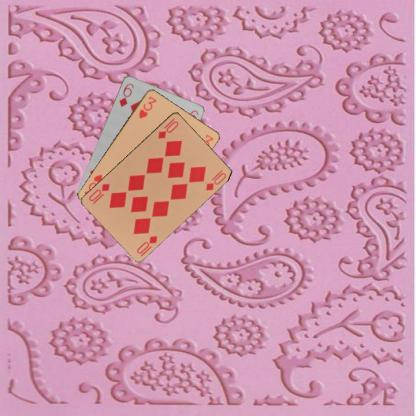10d: (155, 115, 180, 140), (133, 233, 159, 255)
3h: (136, 93, 158, 120)
6d: (116, 80, 135, 108)
